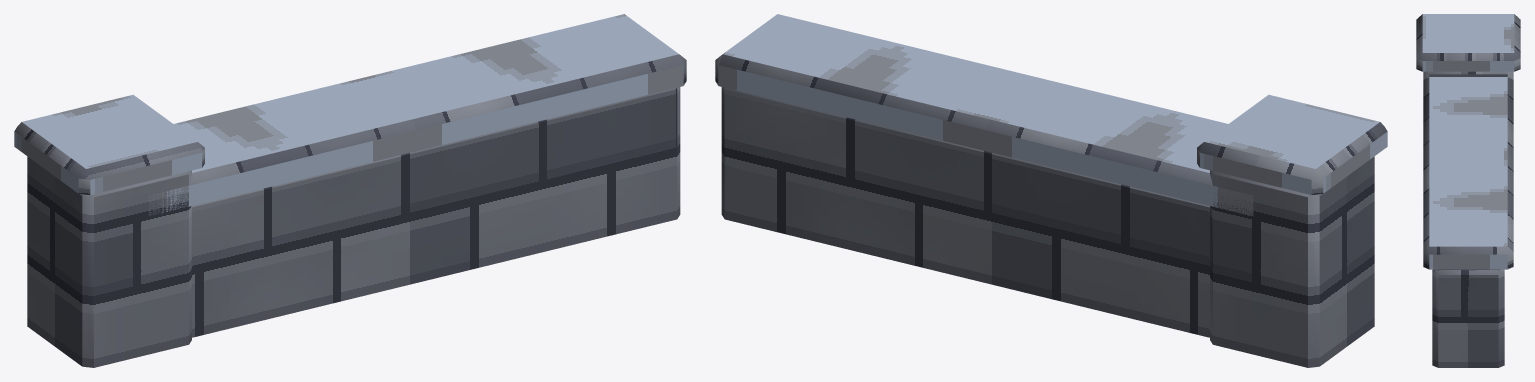
File: fence_2.glb
3 renders of one model, left to right at view 1: azimuth 30°, elevation 25°; view 2: azimuth 150°, elevation 25°; view 3: azimuth 270°, elevation 25°, orthographic. The views are drawn at different scales.
Parts seen in each view (by area): view 1: fence_3; view 2: fence_3; view 3: fence_3.
Part boxes in pixels (bbox=[...]): fence_3: bbox=[14, 14, 686, 367]; fence_3: bbox=[715, 14, 1387, 367]; fence_3: bbox=[1416, 14, 1520, 367].
Bounding box in the file's own units: 2.23 × 0.7 × 0.46.
Materials: 2 (2 with a texture image).
